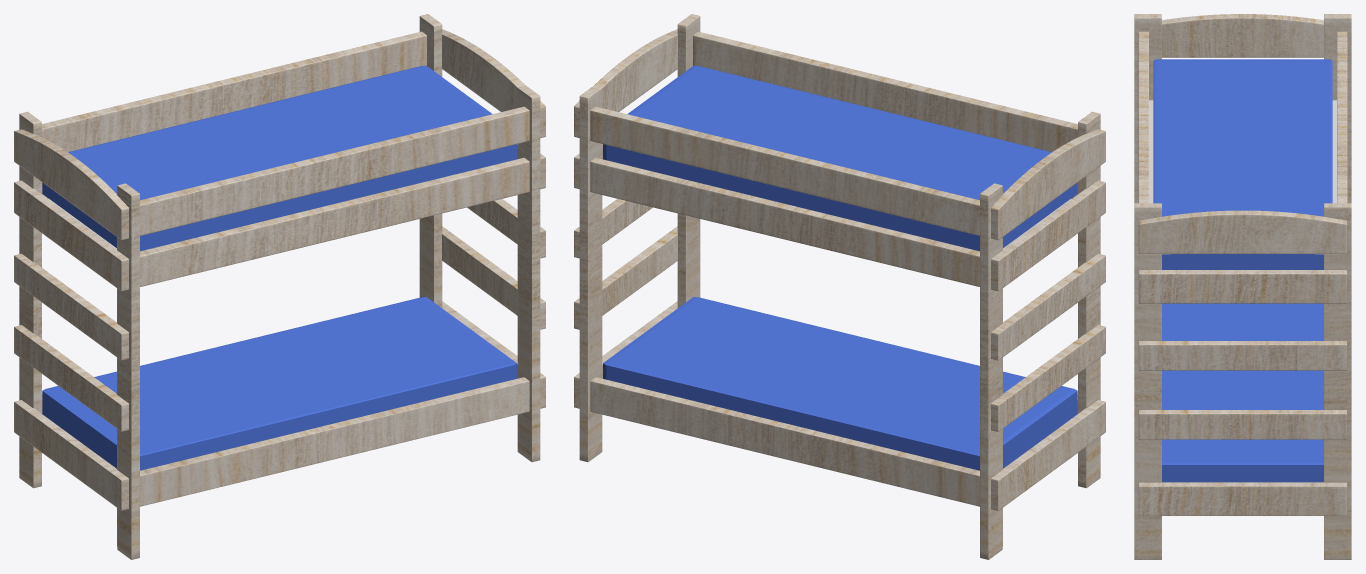
The model's file is bed.fbx.
3 views of the same model, side by side, from view 1: azimuth 30°, elevation 25°; view 2: azimuth 150°, elevation 25°; view 3: azimuth 270°, elevation 25° (orthographic). The views are drawn at different scales.
Parts seen in each view (by area): view 1: Cube.021, Cube.023, Cube.001, Cube.008, Cube.007, Cube.012, Cube.020, Cube.002, Cube.009, Cube.003, Cube.006, Cube.010 (+7 smaller); view 2: Cube.021, Cube.023, Cube.013, Cube.012, Cube.011, Cube.008, Cube.015, Cube.010, Cube.009, Cube.003, Cube.006, Cube.002 (+7 smaller); view 3: Cube.023, Cube.021, Cube.019, Cube.014, Cube.018, Cube.009, Cube.015, Cube.020, Cube.016, Cube.017, Cube.002, Cube.010 (+3 smaller).
Part boxes in pixels (bbox=[...]): Cube.021: bbox=[42, 297, 516, 470]; Cube.023: bbox=[42, 65, 516, 251]; Cube.001: bbox=[140, 377, 529, 506]; Cube.008: bbox=[140, 106, 529, 235]; Cube.007: bbox=[140, 157, 529, 286]; Cube.012: bbox=[42, 31, 426, 151]; Cube.020: bbox=[517, 85, 540, 462]; Cube.002: bbox=[117, 183, 139, 559]; Cube.009: bbox=[14, 129, 128, 240]; Cube.003: bbox=[14, 400, 128, 510]; Cube.006: bbox=[14, 180, 128, 291]; Cube.010: bbox=[19, 111, 41, 488]; Cube.021: bbox=[603, 297, 1077, 470]; Cube.023: bbox=[603, 65, 1077, 251]; Cube.013: bbox=[590, 377, 979, 506]; Cube.012: bbox=[590, 106, 979, 235]; Cube.011: bbox=[590, 157, 979, 286]; Cube.008: bbox=[693, 31, 1077, 151]; Cube.015: bbox=[579, 85, 602, 462]; Cube.010: bbox=[980, 183, 1002, 559]; Cube.009: bbox=[991, 129, 1105, 240]; Cube.003: bbox=[991, 400, 1105, 510]; Cube.006: bbox=[991, 180, 1105, 291]; Cube.002: bbox=[1078, 111, 1100, 488]; Cube.023: bbox=[1153, 59, 1332, 269]; Cube.021: bbox=[1162, 303, 1323, 482]; Cube.019: bbox=[1138, 210, 1347, 254]; Cube.014: bbox=[1138, 482, 1347, 515]; Cube.018: bbox=[1138, 270, 1347, 303]; Cube.009: bbox=[1162, 14, 1323, 57]; Cube.015: bbox=[1324, 203, 1351, 559]; Cube.020: bbox=[1134, 203, 1161, 559]; Cube.016: bbox=[1138, 410, 1347, 439]; Cube.017: bbox=[1138, 341, 1347, 370]; Cube.002: bbox=[1134, 14, 1161, 203]; Cube.010: bbox=[1324, 14, 1351, 203].
Size of the model in its own units: 9738 by 7988 by 4465.
Materials: 3 (1 with a texture image).
